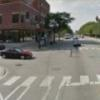crosswalks: (2, 75, 100, 86), (52, 47, 99, 50)
